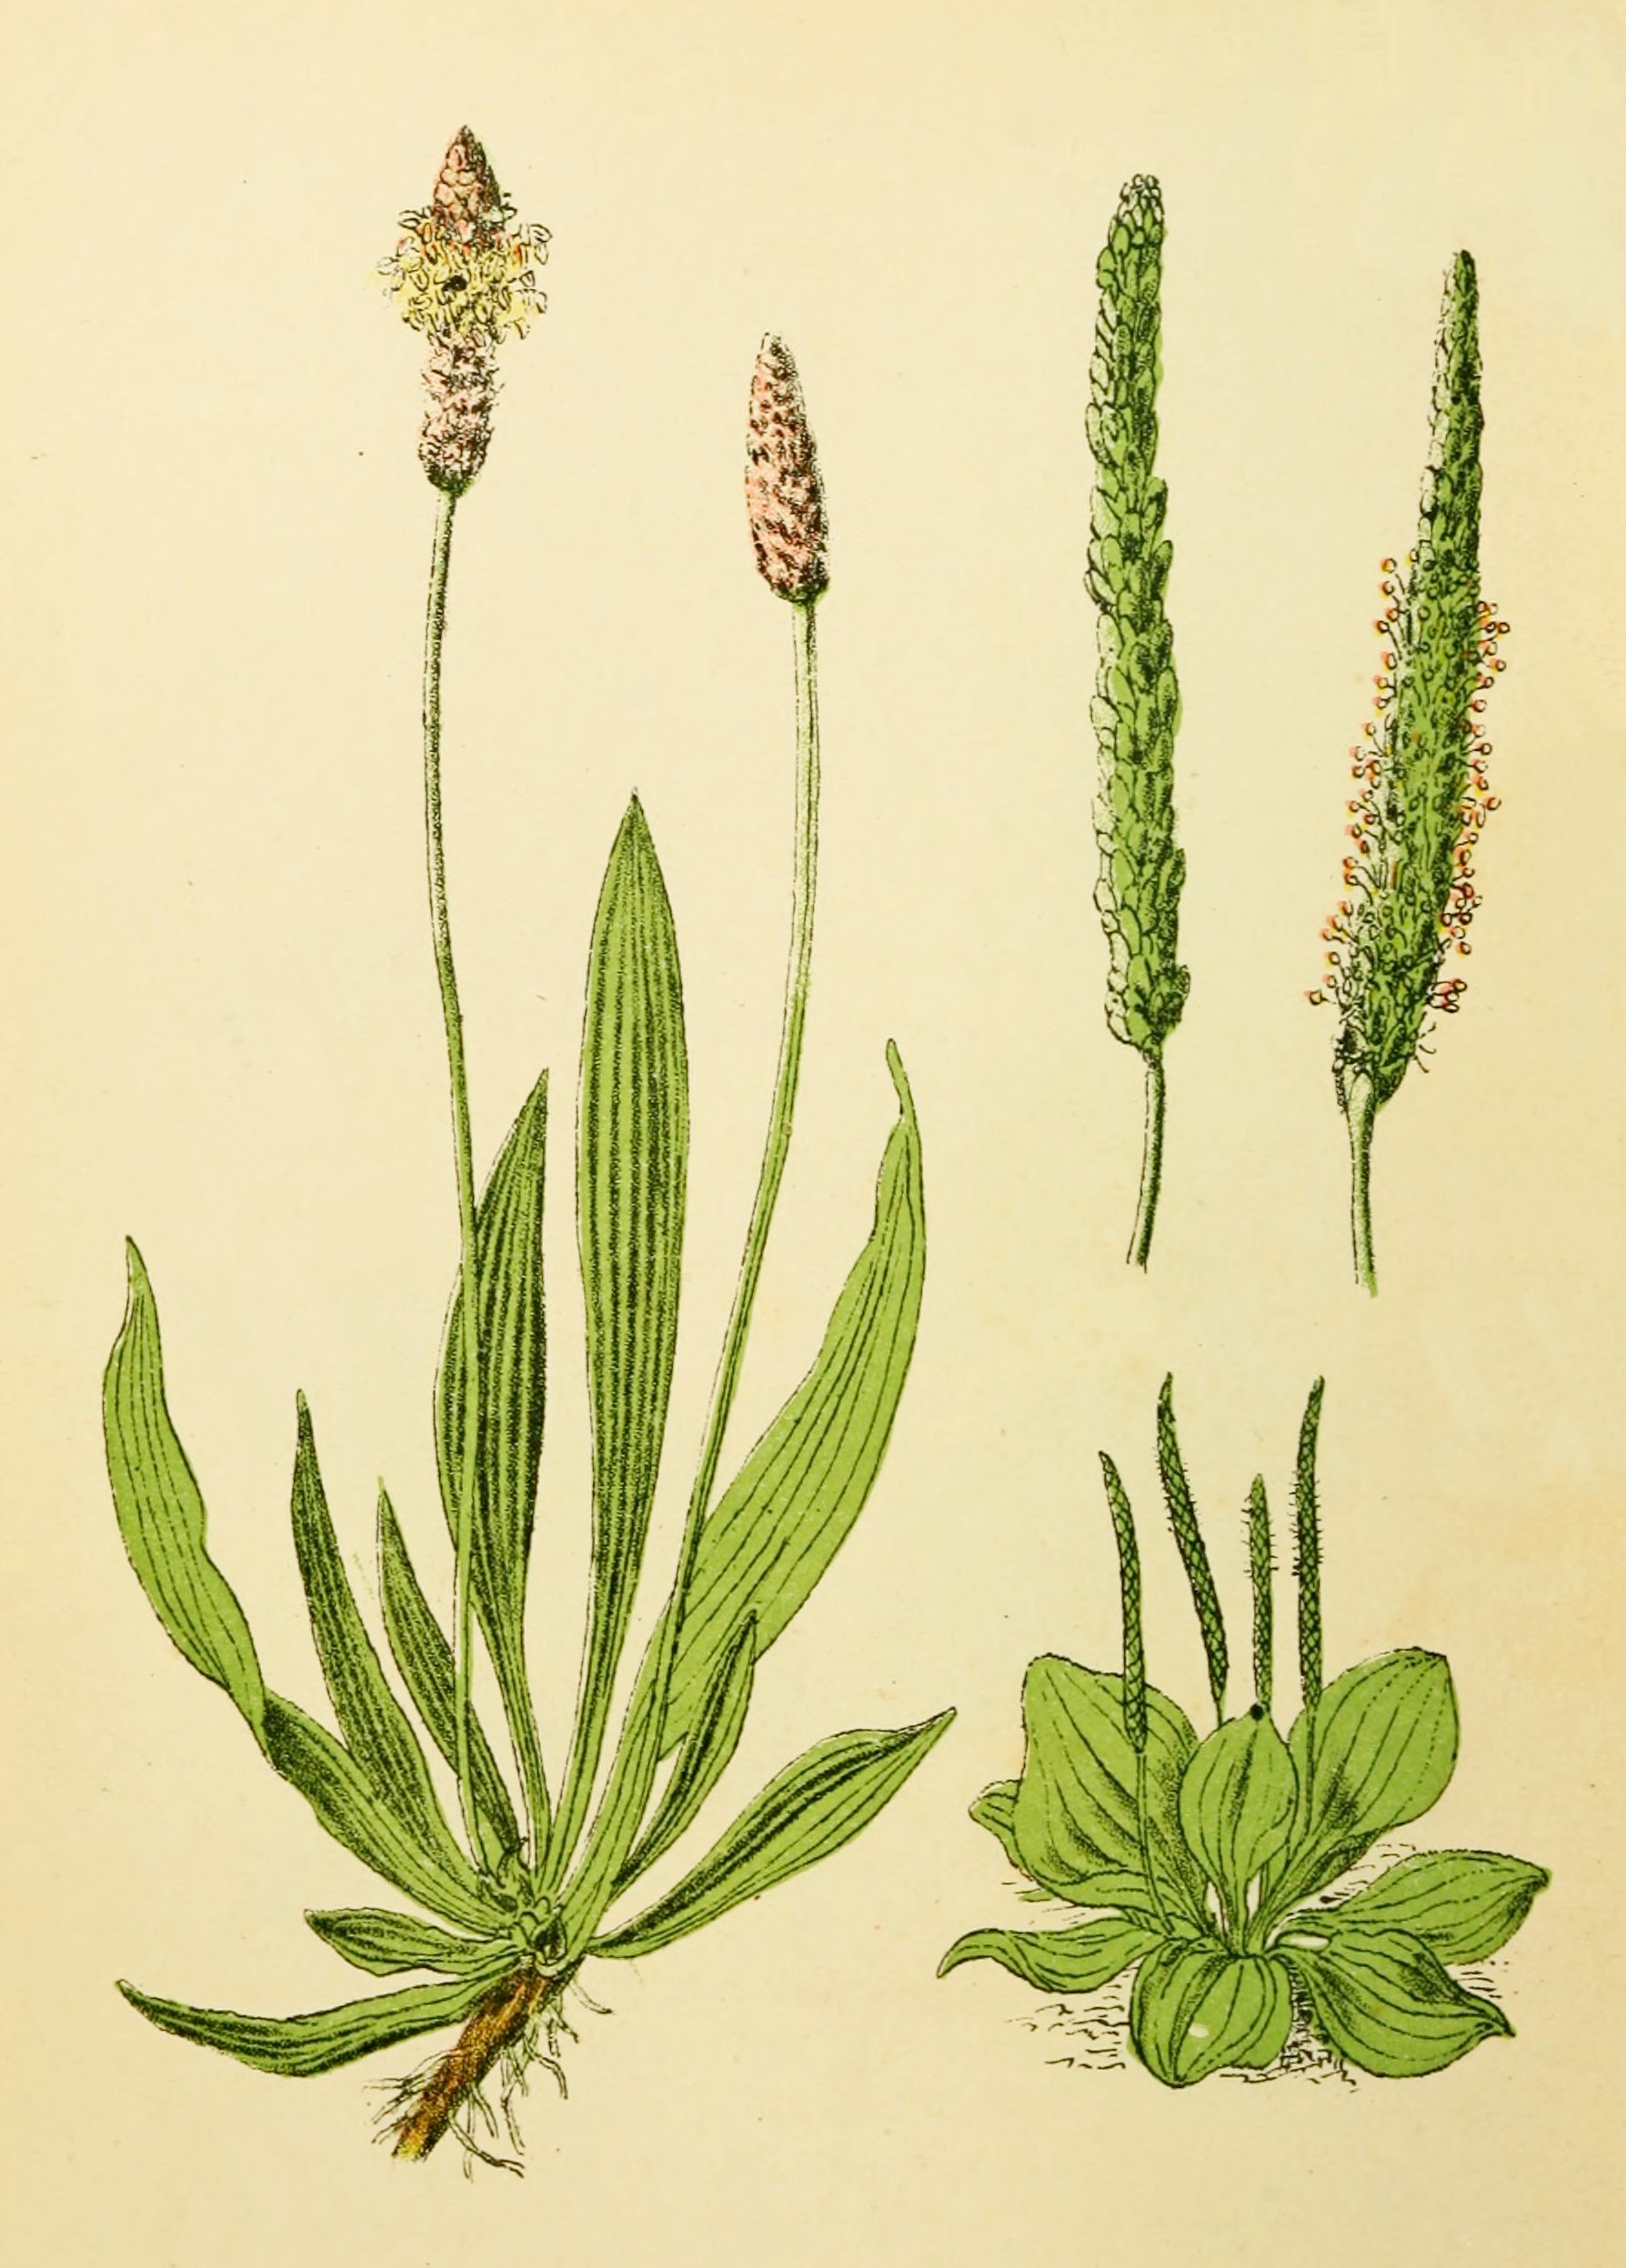buckhorn plantain: (72, 104, 964, 2006)
